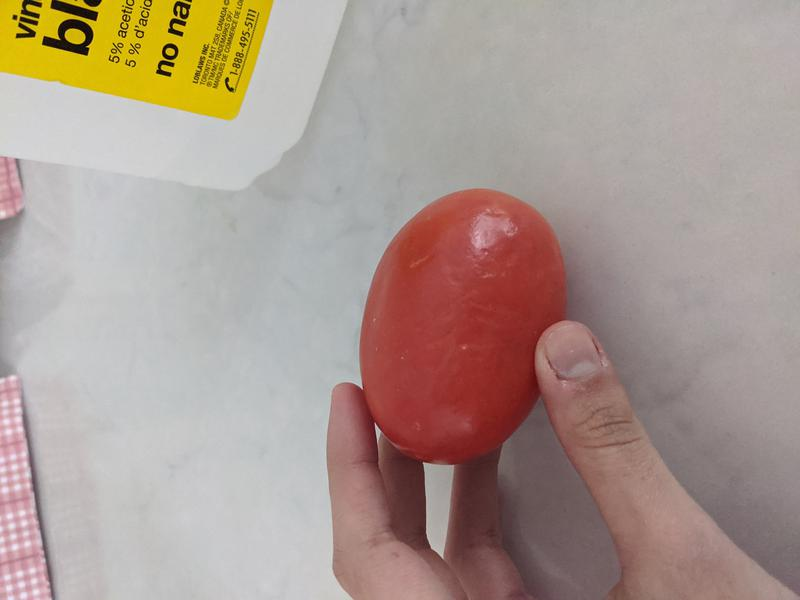tomato: (358, 188, 569, 466)
